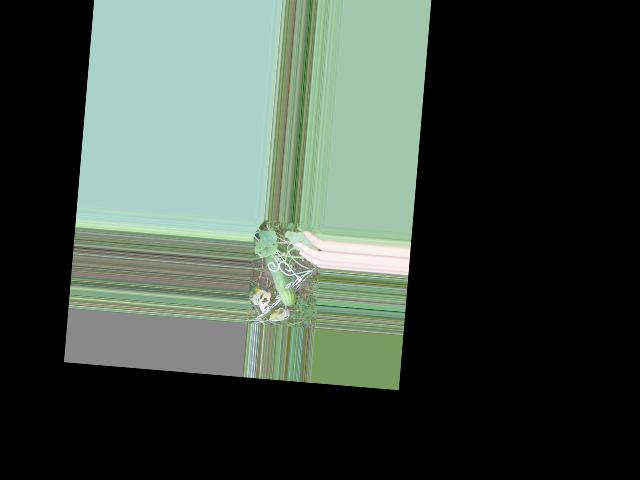cucumber: (262, 254, 299, 306)
